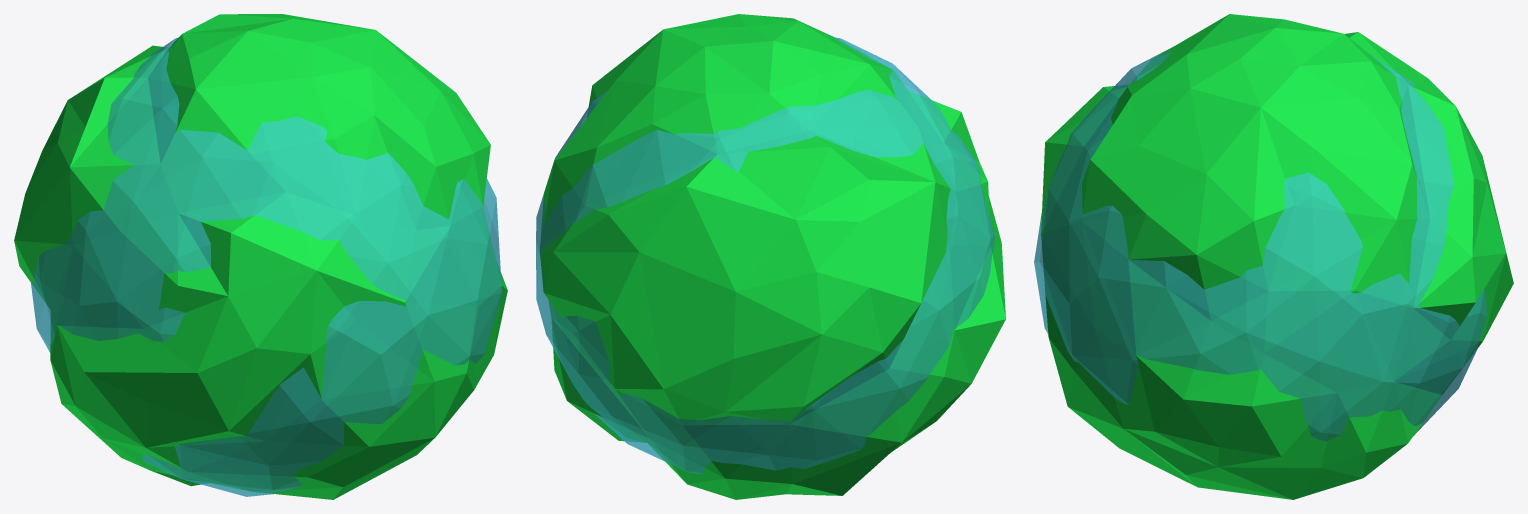
File: earth_like_planet3.fbx
The picture shows the model from 3 angles, left to right: view 1: azimuth 30°, elevation 25°; view 2: azimuth 150°, elevation 25°; view 3: azimuth 270°, elevation 25°; orthographic projection. The views are drawn at different scales.
Visible parts, largest first — view 1: earth_like_planet3; view 2: earth_like_planet3; view 3: earth_like_planet3.
Part boxes in pixels (<box>): earth_like_planet3: <box>14,14,507,499</box>; earth_like_planet3: <box>536,14,1005,499</box>; earth_like_planet3: <box>1034,14,1513,499</box>.
Size of the model in its own units: 198 by 196 by 197.
